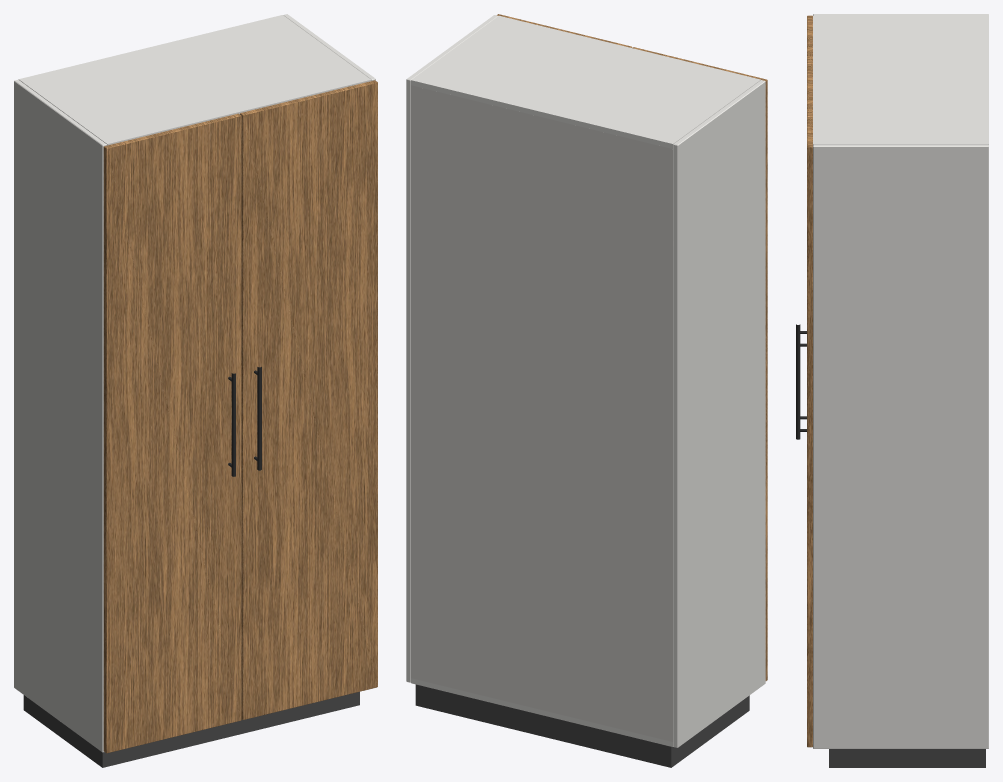
File: wardrobe_100.glb
The picture shows the model from 3 angles, left to right: view 1: azimuth 30°, elevation 25°; view 2: azimuth 150°, elevation 25°; view 3: azimuth 270°, elevation 25°; orthographic projection.
Visible parts, largest first — view 1: hoja_0, hoja_1, lateral, techo, zocalo; view 2: fondo, lateral, techo, zocalo, lateral.001, hoja_0, base; view 3: lateral.001, techo, hoja_1, zocalo, tirador_1, hoja_0, lateral.
Boxes of the visible parts, box(x1,y1,x2,y2) form: hoja_0: box(103, 113, 241, 753); hoja_1: box(240, 80, 377, 719); lateral: box(14, 79, 106, 752); techo: box(18, 15, 371, 145); zocalo: box(23, 691, 359, 767); fondo: box(411, 85, 673, 741); lateral: box(673, 80, 765, 747); techo: box(411, 15, 760, 148); zocalo: box(415, 684, 749, 767); lateral.001: box(406, 15, 497, 682); hoja_0: box(632, 47, 767, 680); base: box(411, 678, 673, 746); lateral.001: box(813, 144, 988, 748); techo: box(813, 16, 988, 144); hoja_1: box(807, 81, 812, 747); zocalo: box(829, 749, 985, 767); tirador_1: box(796, 337, 800, 439); hoja_0: box(807, 15, 812, 81); lateral: box(813, 14, 988, 15).
Size of the model in its own units: 1 by 2.2 by 0.6151.
6 materials, 1 textured.
